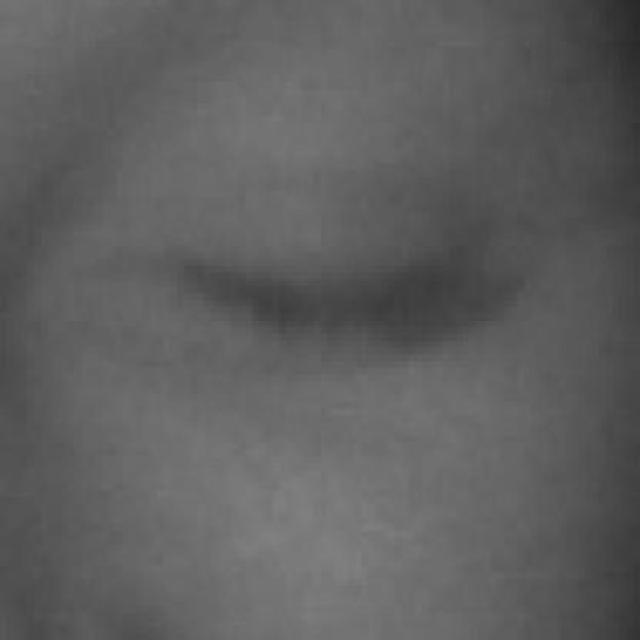drowsy: (156, 127, 499, 490)
